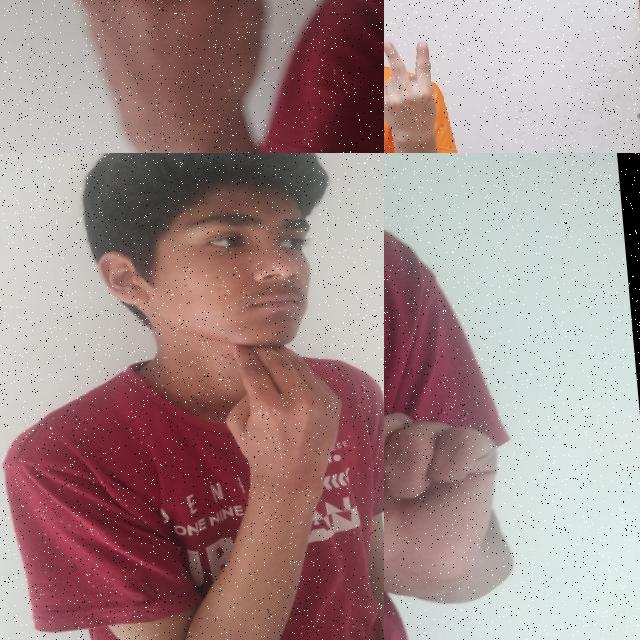Chin Flick: (68, 153, 383, 535)
Dulya: (384, 371, 516, 616)
Reversed Victory: (36, 0, 280, 153), (384, 34, 447, 151)
